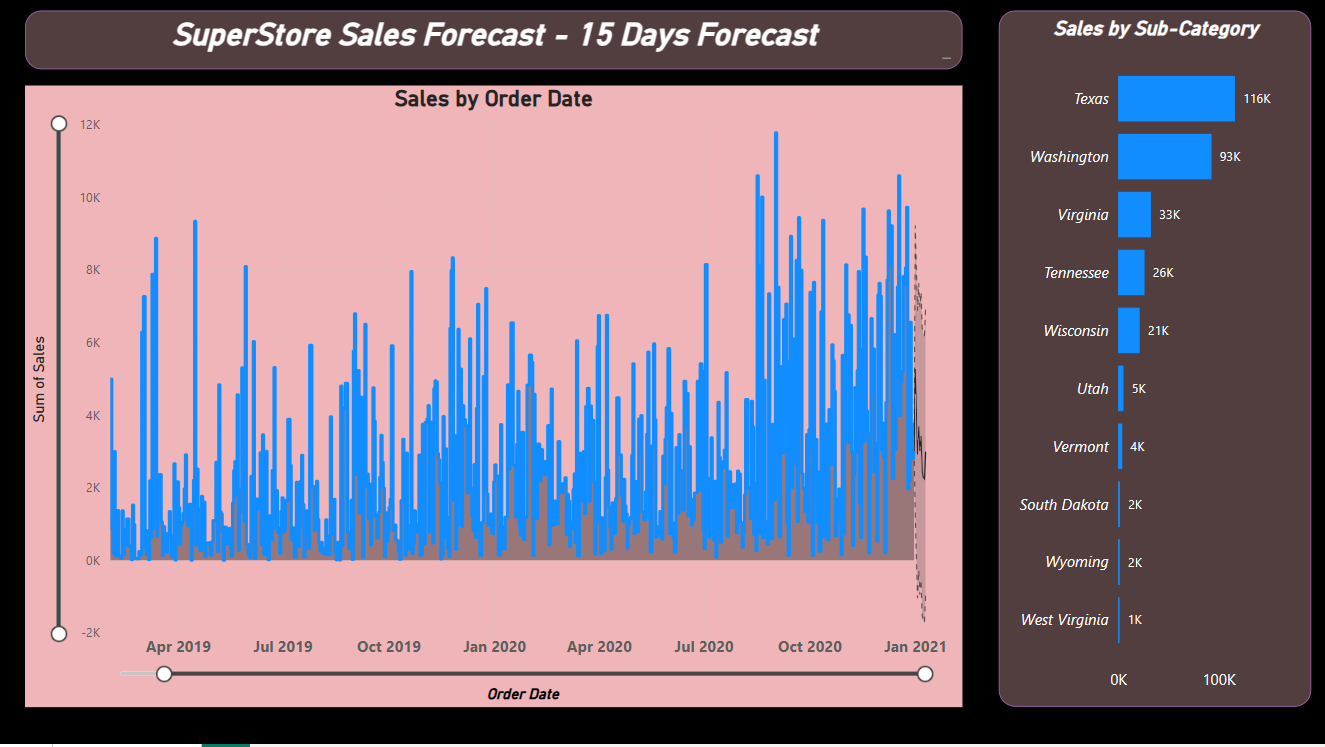

What the dashboard file says about the page in this screenshot:
{"tool":"powerbi","page":{"name":"Sales_Forecast","canvas":[1280,720],"ordinal":1},"visuals":[{"type":"lineChart","title":" Sales by Order Date","fields":{"Y":["Sum(SuperStore_Sales.Sales)"],"Category":["SuperStore_Sales.Order Date"]},"box":[24.1,84.5,904.8,599.6],"z":0},{"type":"clusteredBarChart","title":"Sales by Sub-Category","fields":{"Y":["Sum(SuperStore_Sales.Sales)"],"Category":["SuperStore_Sales.State"]},"box":[963.8,11.5,301.5,672.3],"z":1000},{"type":"textbox","title":"SuperStore Sales Forecast - 15 Days Forecast","box":[24.1,12.1,904.8,56.7],"z":2000}]}

Visuals, with their boxes in screenshot pixels (x1, y1, x2, y2), scaled from the page's 1280x720 canvas onto the 1325x747 screenshot:
" Sales by Order Date" lineChart: [25, 88, 962, 710]
"Sales by Sub-Category" clusteredBarChart: [998, 12, 1310, 709]
"SuperStore Sales Forecast - 15 Days Forecast" textbox: [25, 13, 962, 71]
